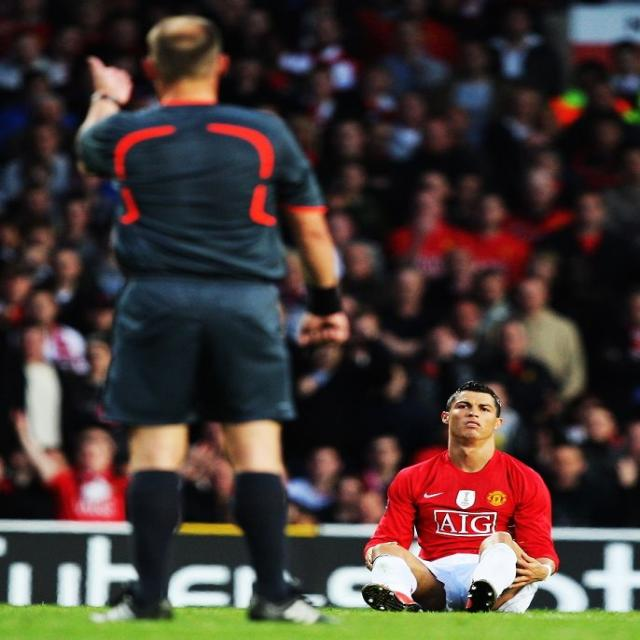fall: (358, 381, 558, 608)
